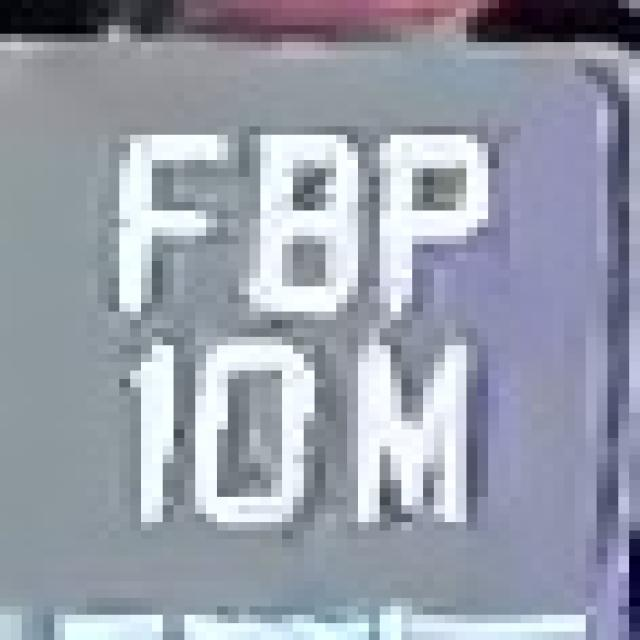0: (152, 337, 336, 547)
1: (120, 320, 196, 531)
B: (228, 110, 347, 353)
F: (98, 101, 238, 354)
M: (325, 312, 499, 556)
P: (336, 110, 488, 312)
